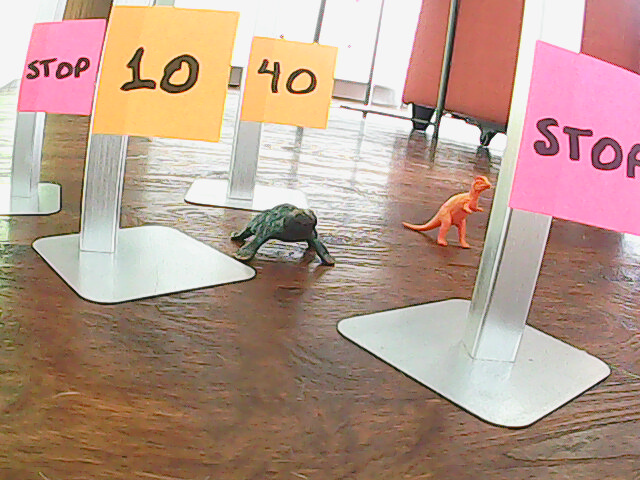10: (101, 8, 245, 140)
40: (248, 35, 335, 128)
dinosaur: (403, 164, 490, 254)
stop: (514, 49, 640, 222), (22, 22, 99, 113)
turtle: (229, 206, 340, 270)
